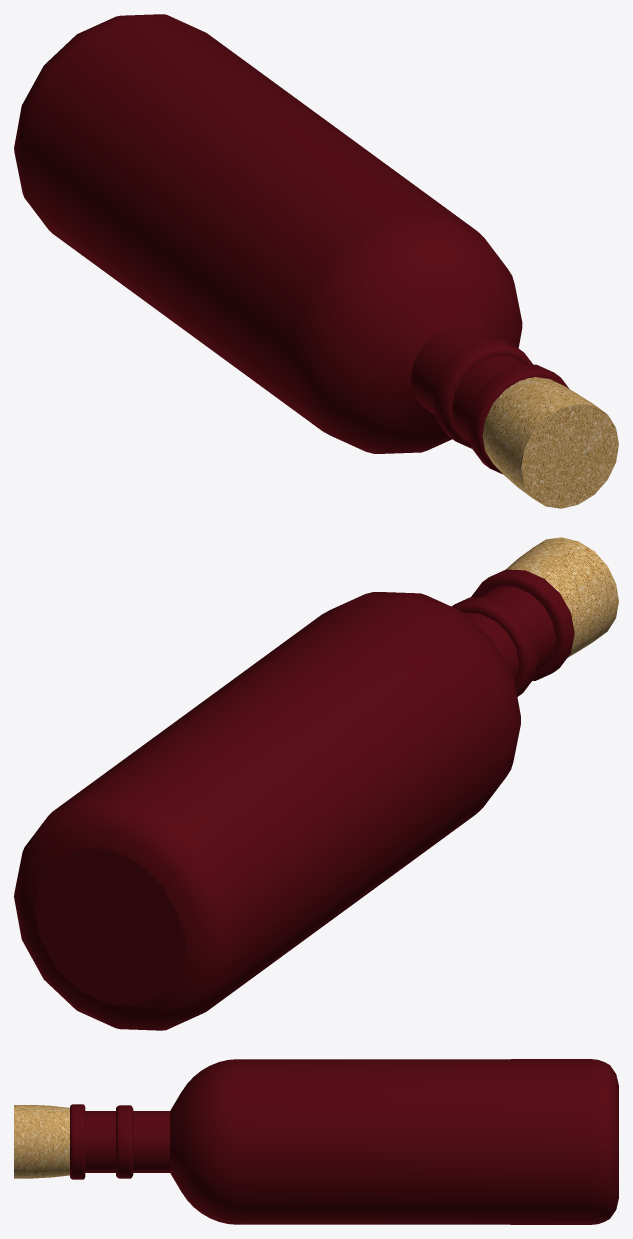
Rendered from vino tinto.fbx.
3 views of the same model, one above another, from view 1: azimuth 30°, elevation 25°; view 2: azimuth 150°, elevation 25°; view 3: azimuth 270°, elevation 25° (orthographic). The views are drawn at different scales.
Visible parts, largest first — view 1: Botella_mesa_009, Object001; view 2: Botella_mesa_009, Object001; view 3: Botella_mesa_009, Object001.
Part boxes in pixels (x1,y1,x2,y2): Botella_mesa_009: (14, 14, 569, 474); Object001: (482, 377, 618, 508); Botella_mesa_009: (14, 569, 574, 1030); Object001: (506, 537, 618, 657); Botella_mesa_009: (70, 1059, 618, 1224); Object001: (14, 1105, 69, 1178).
Size of the model in its own units: 4.34 by 4.34 by 15.85.
